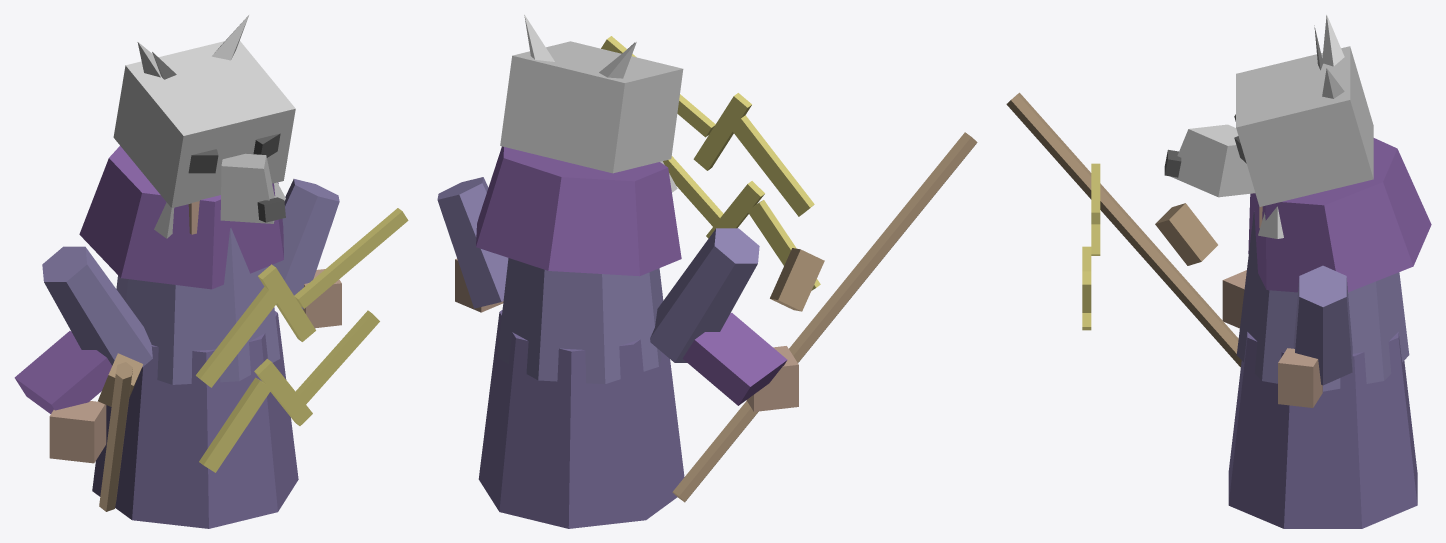
File: wolfShaman-1779102906444.glb
3 renders of one model, left to right at view 1: azimuth 30°, elevation 25°; view 2: azimuth 150°, elevation 25°; view 3: azimuth 270°, elevation 25°, orthographic. The views are drawn at different scales.
Size of the model in its own units: 0.8523 by 0.9794 by 0.8423.
